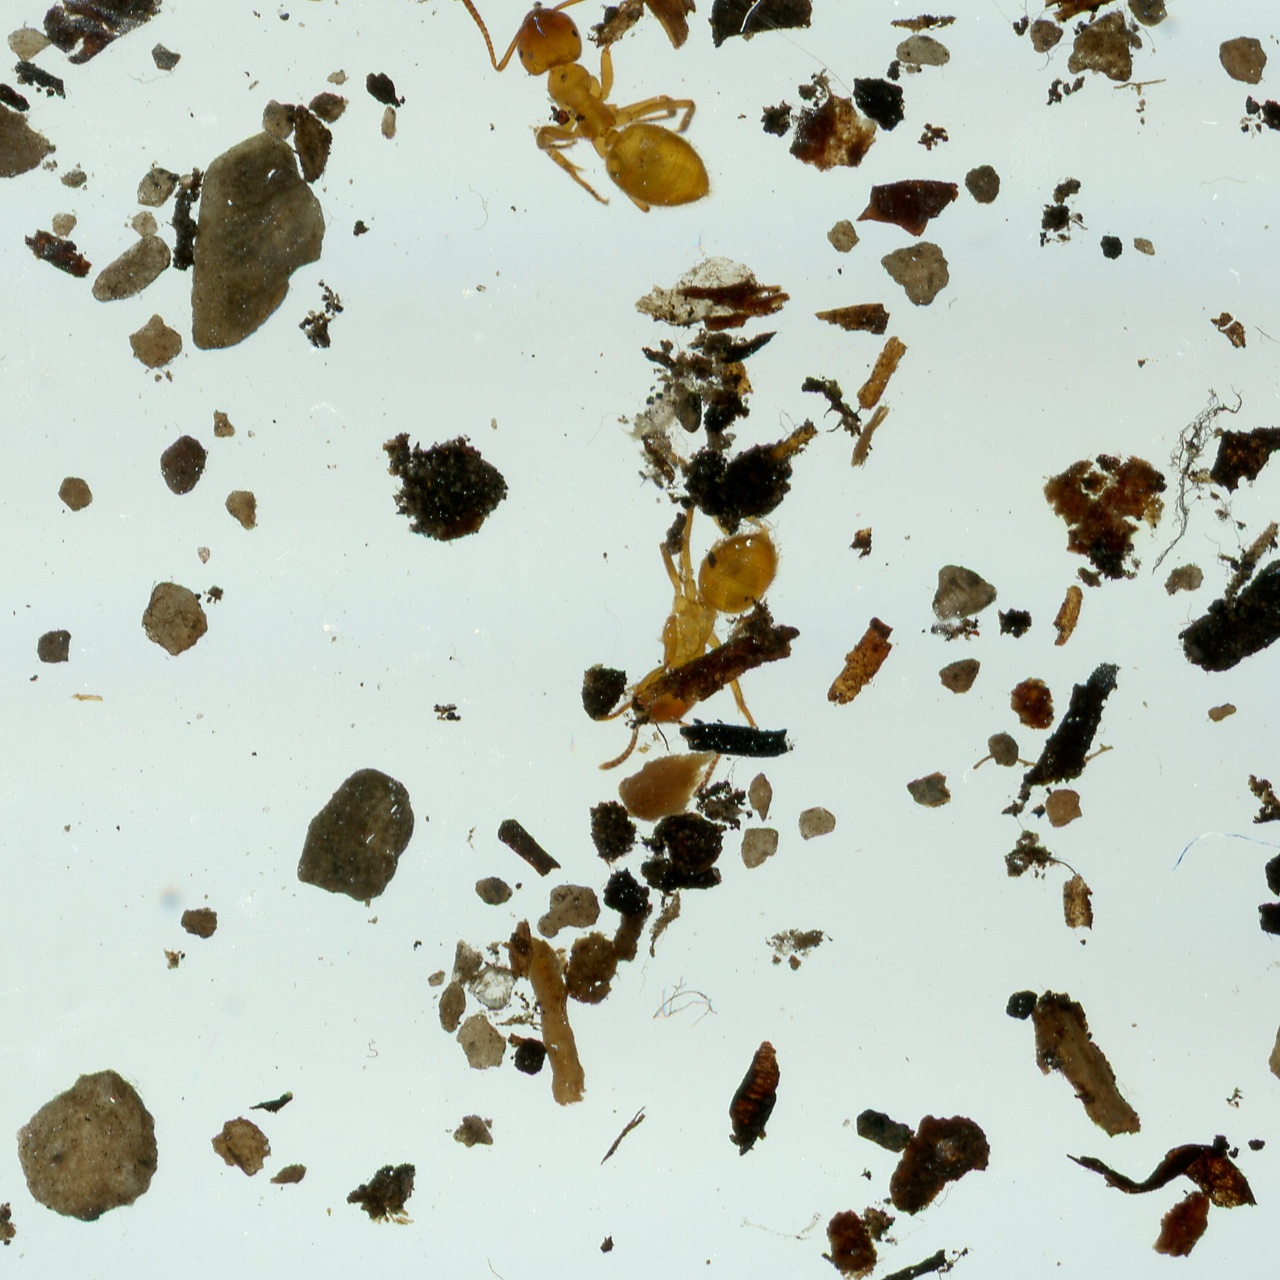arthropod: (436, 0, 783, 270), (591, 443, 788, 803)
